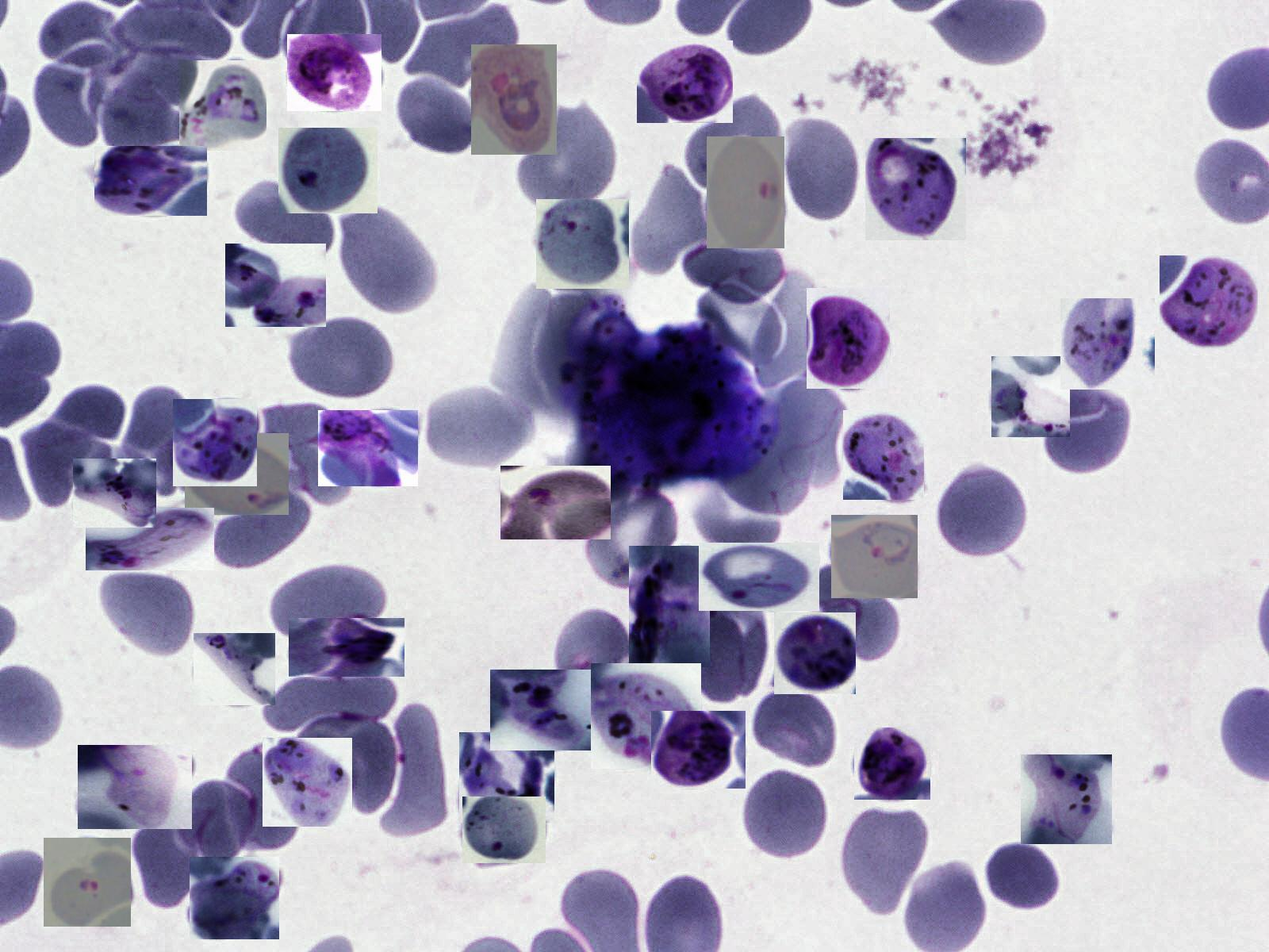Infected: (591, 663, 701, 769), (865, 138, 966, 240), (630, 546, 711, 667), (1160, 255, 1258, 353), (471, 44, 557, 155), (78, 746, 192, 829), (490, 670, 600, 750), (1060, 298, 1155, 390), (459, 732, 554, 823), (707, 136, 784, 248), (185, 433, 289, 515), (278, 128, 378, 213), (225, 244, 326, 327), (807, 288, 890, 389), (536, 199, 629, 289), (1021, 754, 1112, 844), (500, 466, 611, 539), (700, 543, 819, 611), (86, 508, 214, 570), (263, 738, 352, 827), (179, 60, 266, 151), (94, 146, 207, 216), (637, 41, 733, 123), (44, 838, 131, 927), (319, 410, 418, 486), (651, 711, 746, 789), (173, 399, 257, 486), (190, 857, 279, 939), (843, 410, 924, 500), (288, 34, 382, 111), (831, 515, 918, 598), (289, 618, 404, 677), (774, 612, 856, 694), (991, 357, 1070, 437), (194, 633, 275, 705), (73, 459, 156, 528), (854, 727, 930, 800), (462, 797, 546, 863)
Uninfected: (333, 205, 434, 317), (519, 105, 619, 216), (297, 714, 399, 816), (259, 402, 351, 508), (934, 463, 1032, 562), (779, 114, 863, 226), (585, 488, 680, 587), (406, 3, 517, 87), (286, 317, 393, 403), (1039, 386, 1136, 480), (424, 386, 535, 468), (845, 809, 930, 915), (634, 167, 715, 278), (809, 562, 898, 662), (685, 99, 780, 192), (265, 670, 397, 735), (557, 606, 632, 720), (382, 705, 446, 838), (211, 489, 312, 571), (236, 176, 335, 259), (270, 567, 384, 639), (36, 42, 113, 148), (100, 570, 192, 657), (744, 770, 830, 862), (700, 580, 769, 694), (395, 74, 483, 159), (132, 812, 205, 912), (20, 426, 109, 507), (100, 71, 189, 151), (121, 387, 187, 494), (230, 747, 297, 852), (750, 689, 836, 768), (667, 612, 743, 701), (681, 238, 780, 303), (31, 382, 123, 450), (178, 779, 251, 862), (983, 839, 1062, 914), (36, 3, 125, 69)
